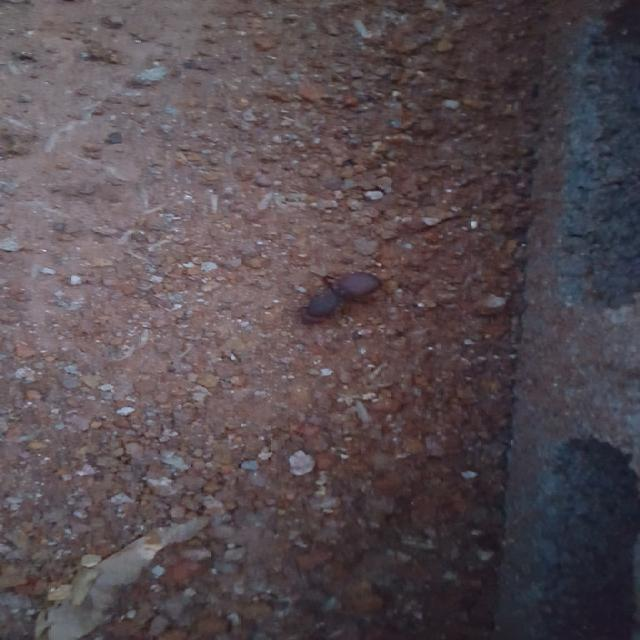Alive-Female-Dealate: (283, 271, 405, 327)
